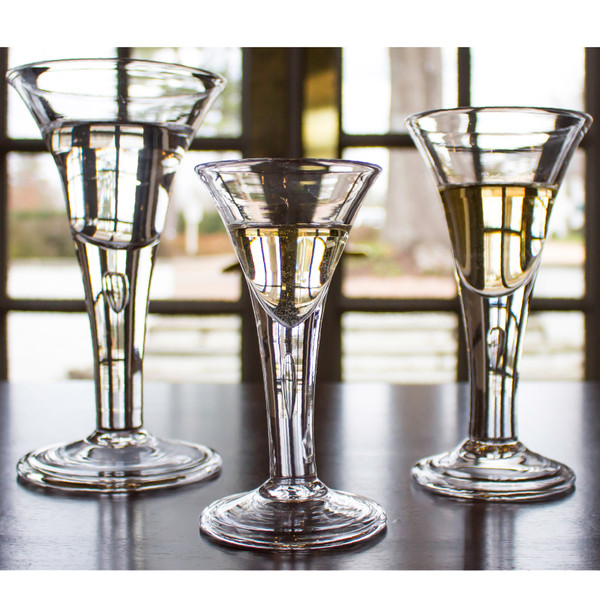Nonrec_Glass: (4, 56, 233, 497), (408, 86, 586, 542), (197, 155, 399, 554)
